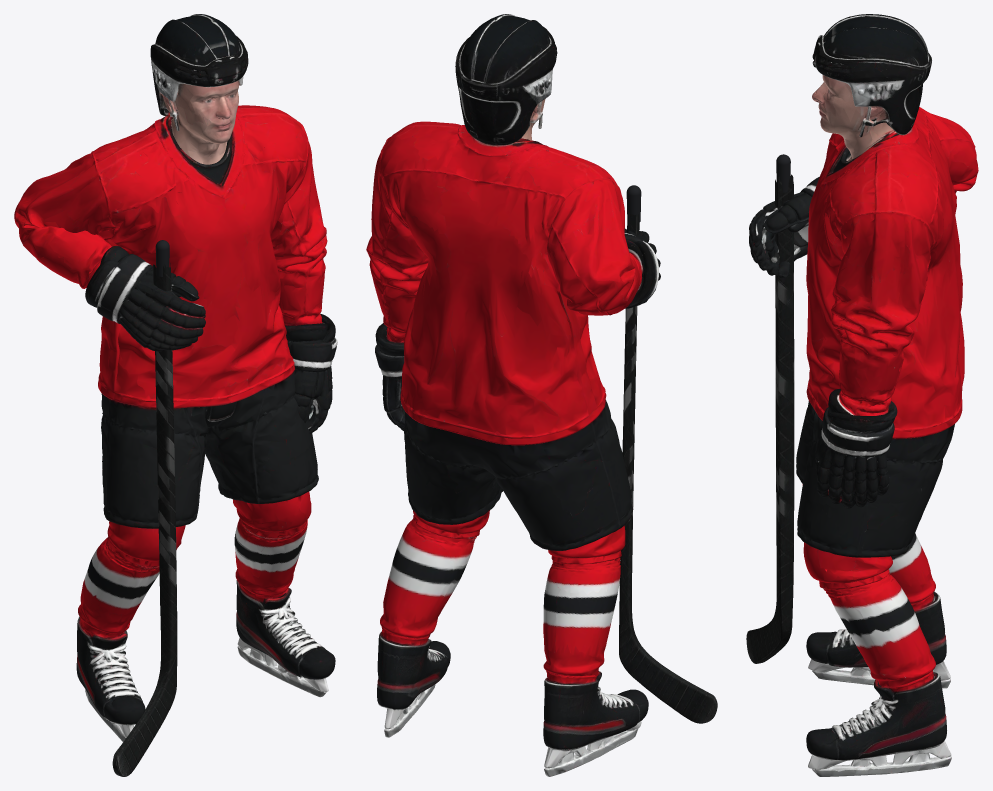
File: brady_hi.glb
3 views of the same model, side by side, from view 1: azimuth 30°, elevation 25°; view 2: azimuth 150°, elevation 25°; view 3: azimuth 270°, elevation 25° (orthographic). The views are drawn at different scales.
Parts seen in each view (by area): view 1: brady, stick; view 2: brady, stick; view 3: brady, stick.
Part boxes in pixels (x1,y1,x2,y2): brady: (14, 14, 337, 741); stick: (112, 263, 177, 776); brady: (366, 14, 660, 776); stick: (619, 207, 717, 723); brady: (749, 14, 978, 776); stick: (746, 174, 794, 663).
Bounding box in the file's own units: 0.7965 × 1.87 × 0.5551.
Materials: 3 (2 with a texture image).
